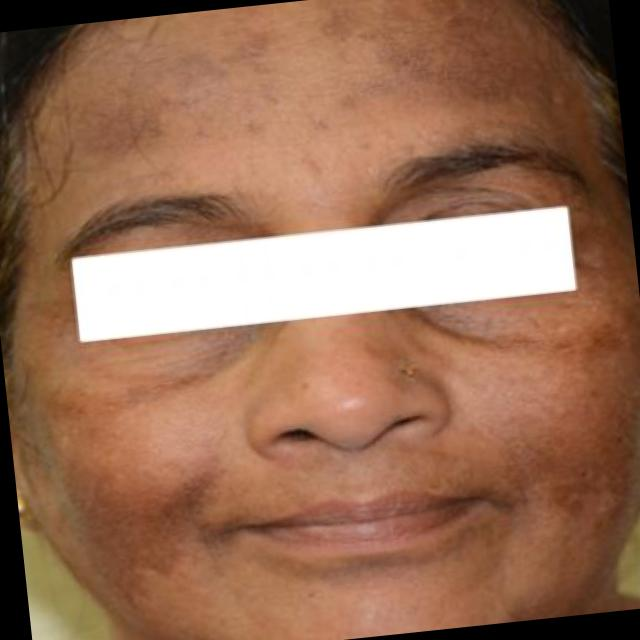melasma: (63, 0, 599, 211), (403, 269, 640, 621), (41, 341, 236, 640)
